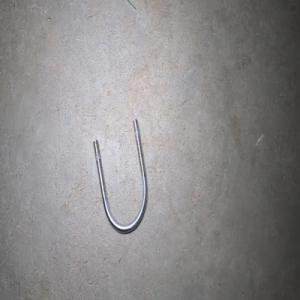ClampPart: (92, 118, 148, 234)
